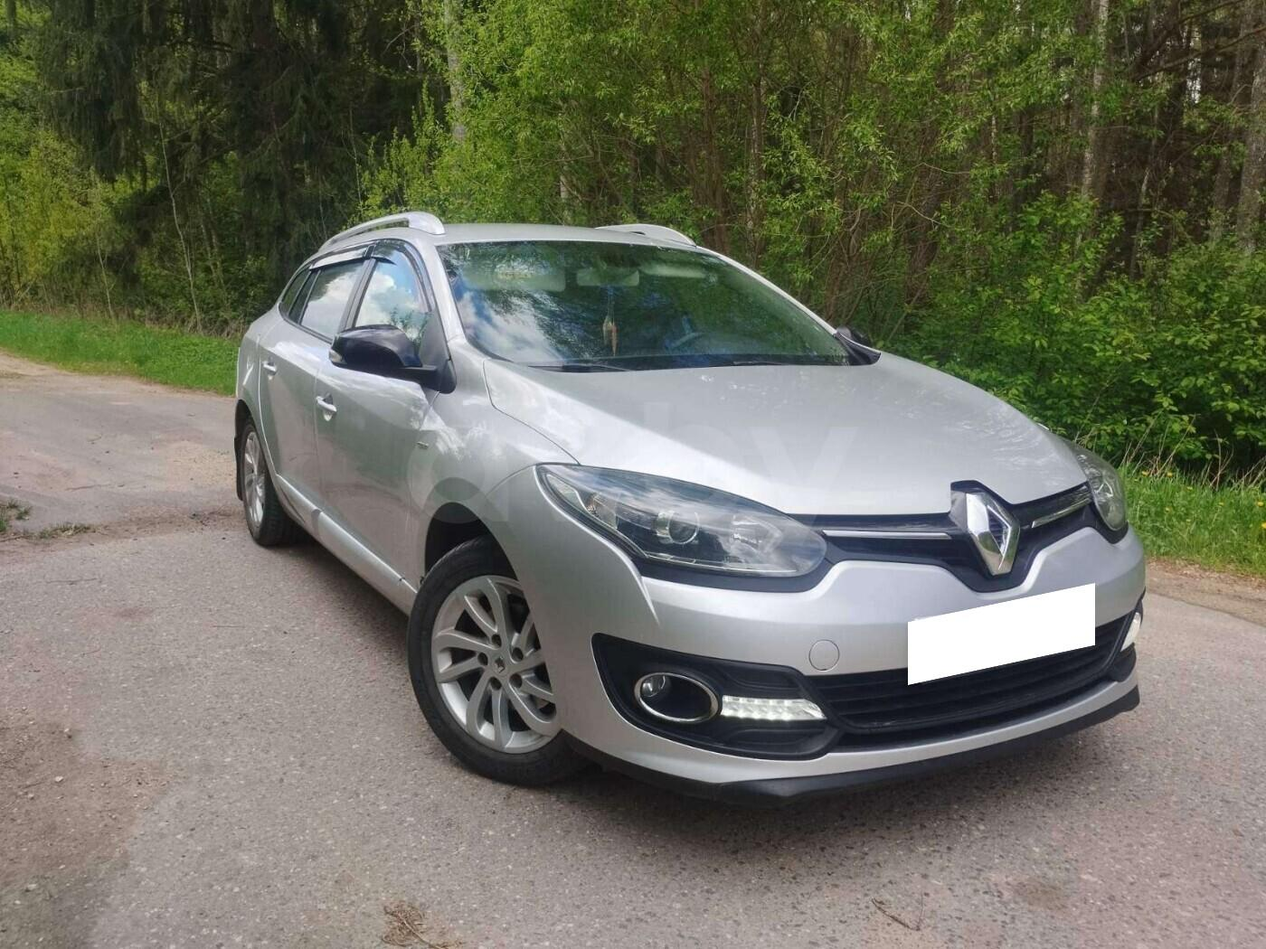Megane_2014-2016: (229, 207, 1150, 797)
